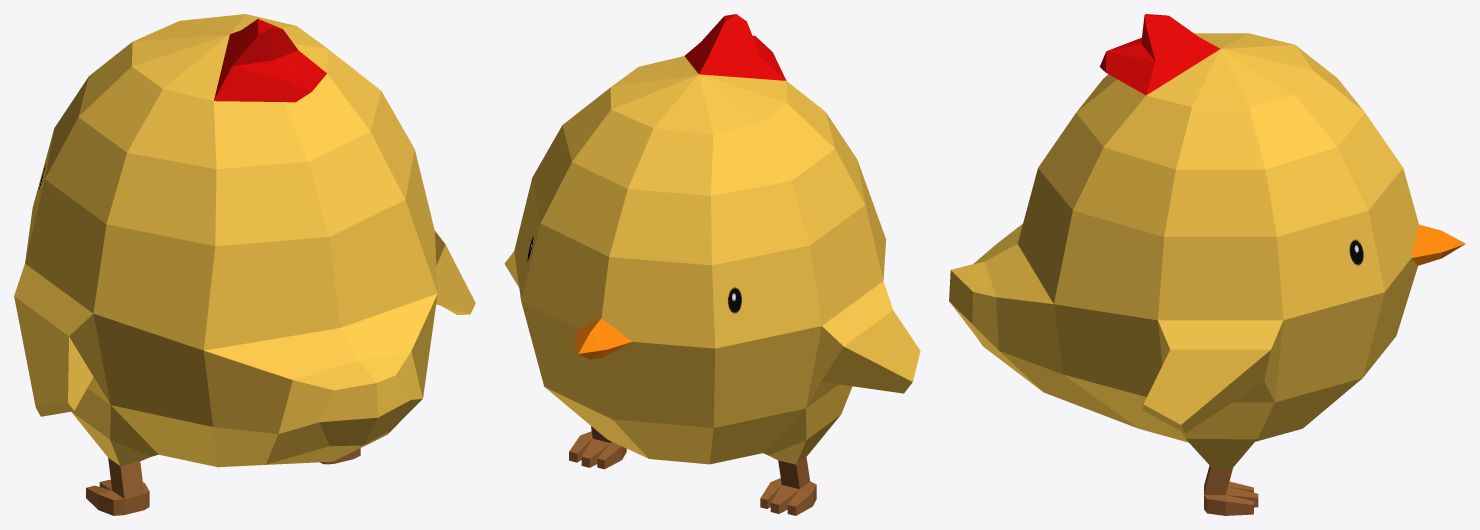
Rendered from Chicken.fbx.
3 renders of one model, left to right at view 1: azimuth 30°, elevation 25°; view 2: azimuth 150°, elevation 25°; view 3: azimuth 270°, elevation 25°, orthographic. The views are drawn at different scales.
Visible parts, largest first — view 1: Sphere.001; view 2: Sphere.001; view 3: Sphere.001.
Part boxes in pixels (box(x1,y1,x2,y2)): Sphere.001: box(14, 14, 475, 515); Sphere.001: box(504, 14, 920, 515); Sphere.001: box(949, 14, 1465, 515).
Bounding box in the file's own units: 56.3 × 60.17 × 63.66.
